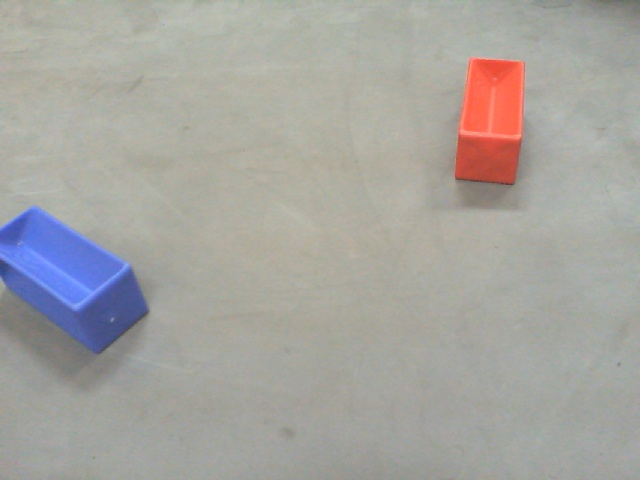BlueSample: (1, 203, 154, 355)
RedSample: (451, 49, 528, 192)
